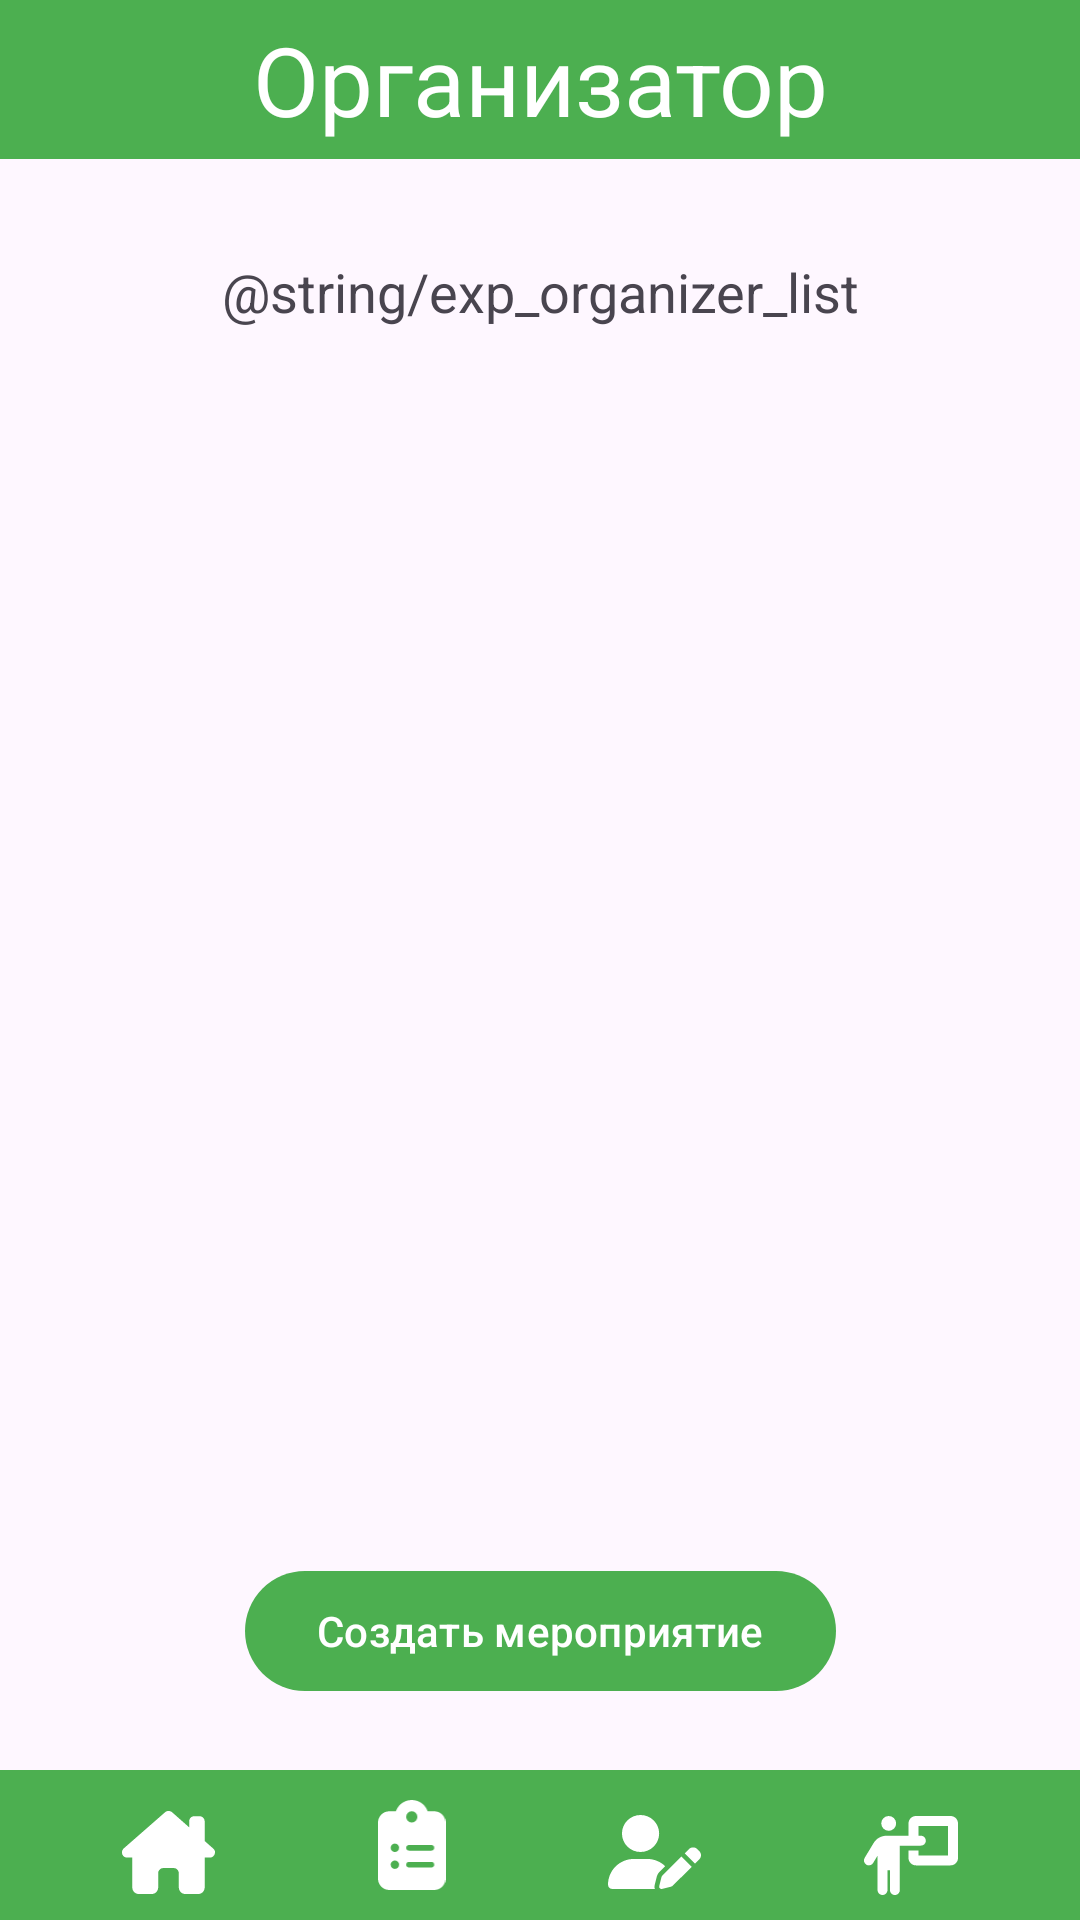

Icons on this 1080px x 1920px Android screen, each with the point to tap as point (x, y):
clipboard list: point (412, 1845)
house: point (168, 1852)
user pen: point (654, 1852)
